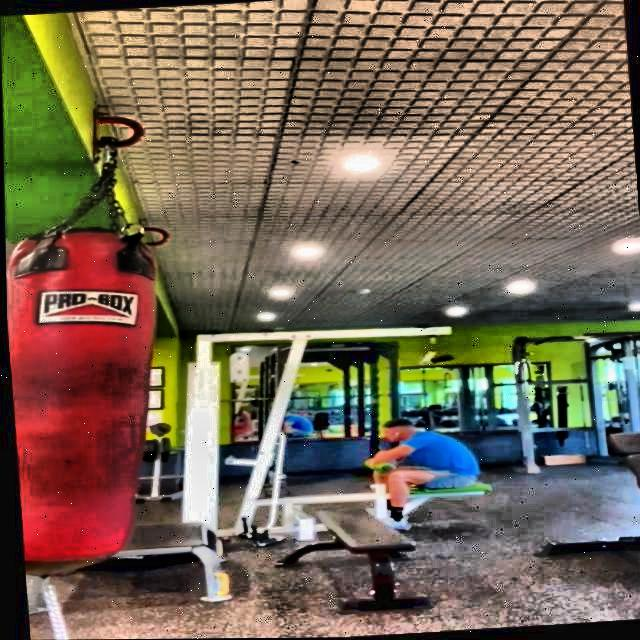boxing-bag: (2, 103, 174, 581)
